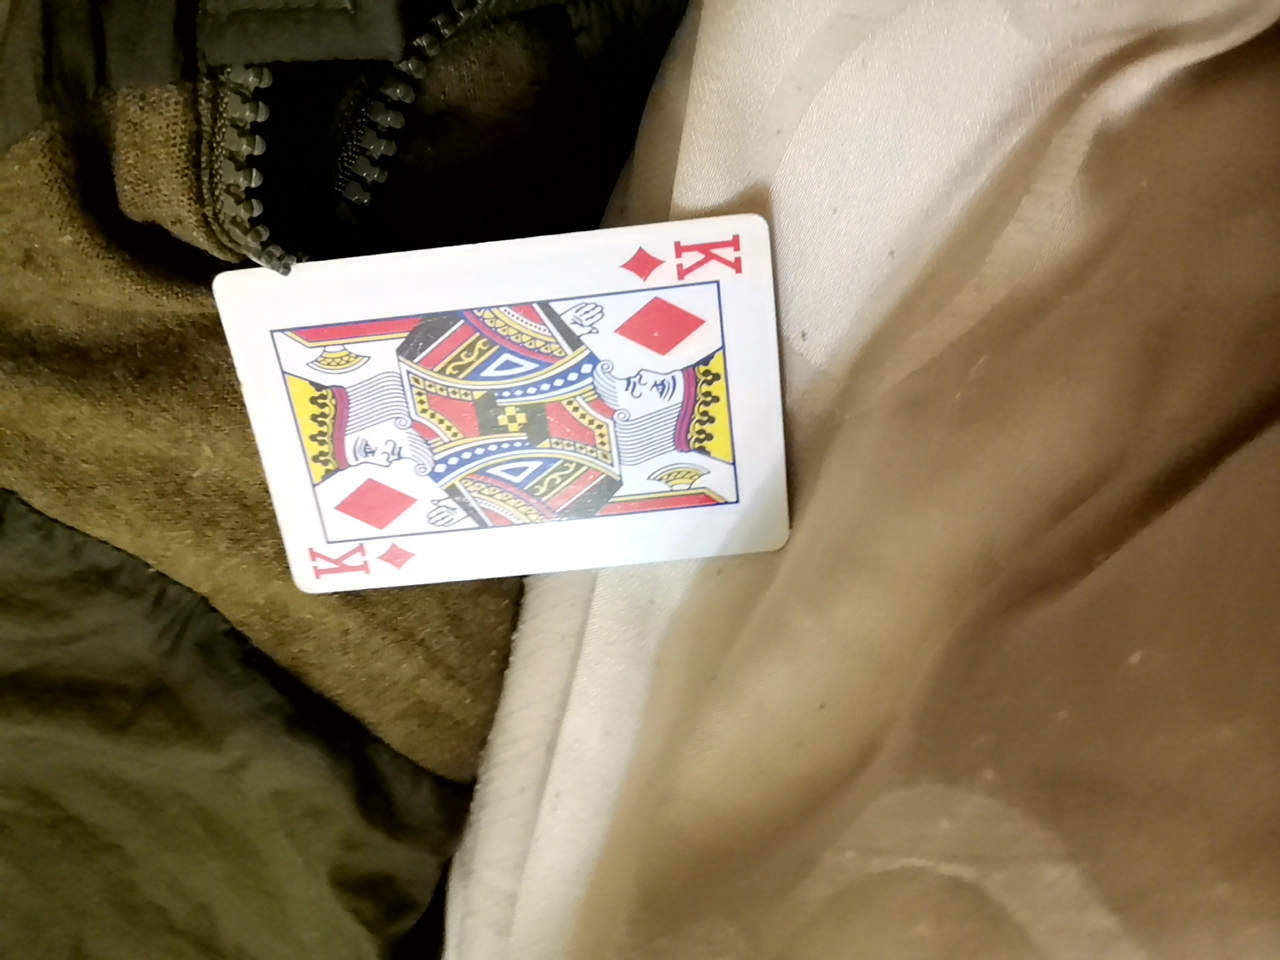fk k: (231, 241, 779, 586)
